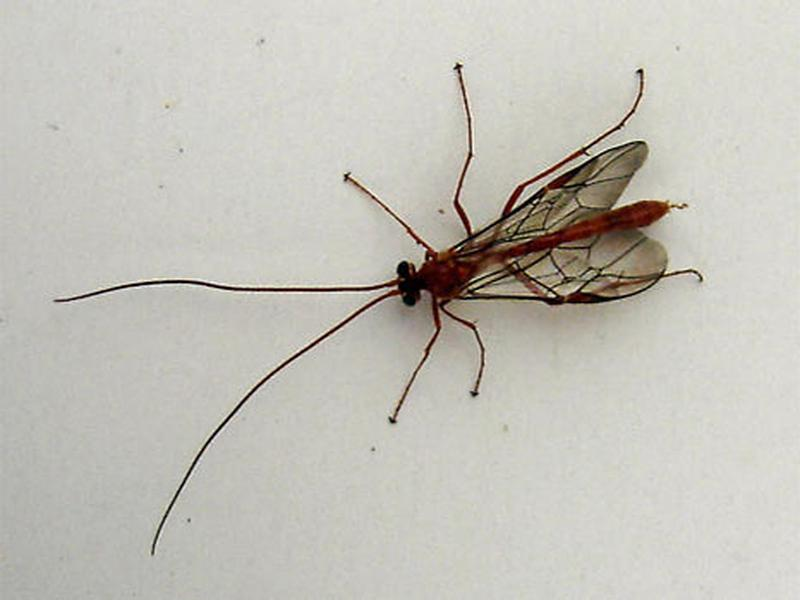Rice_horned_caterpillar: (347, 113, 716, 365)
